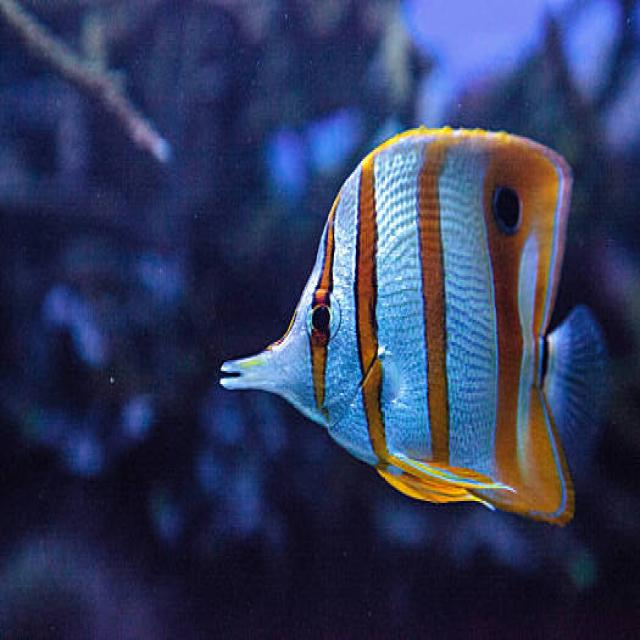ButterflyFish: (219, 121, 604, 531)
